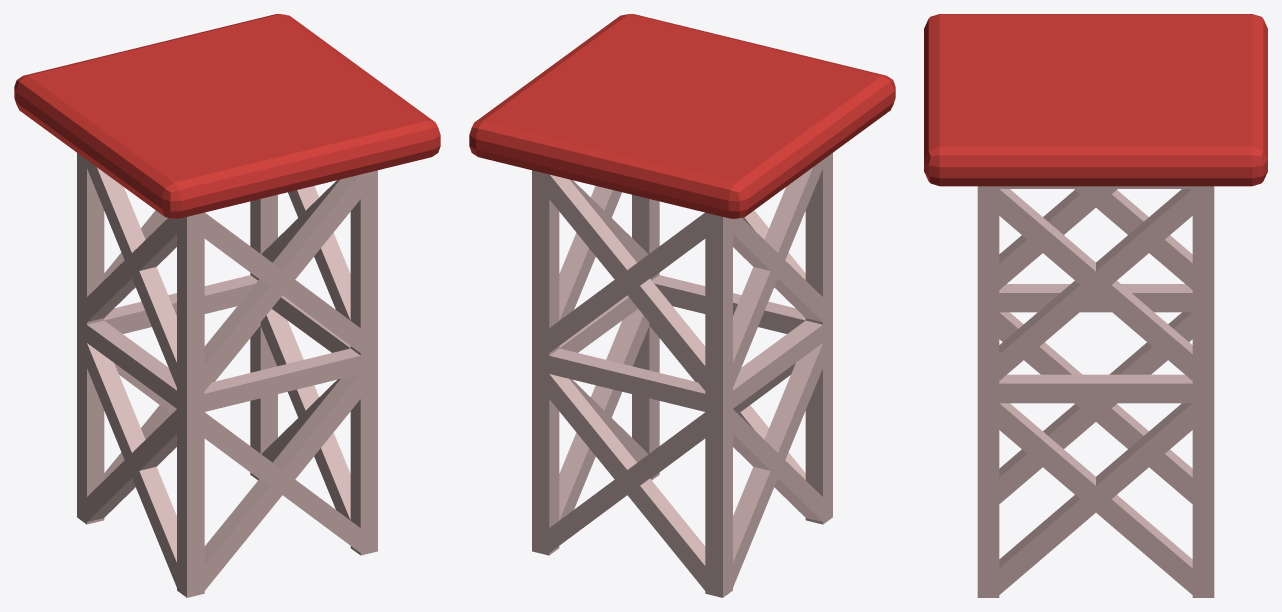
File: HospitalRamboTowerSeperatedParts.fbx
3 renders of one model, left to right at view 1: azimuth 30°, elevation 25°; view 2: azimuth 150°, elevation 25°; view 3: azimuth 270°, elevation 25°, orthographic. The views are drawn at different scales.
Visible parts, largest first — view 1: Cube.080, Cube.052, Cube.070, Cube.055, Cube.072, Cube.039, Cube.066, Cube.025, Cube.064, Cube.028, Cube.056, Cube.051 (+16 smaller); view 2: Cube.080, Cube.053, Cube.071, Cube.059, Cube.074, Cube.050, Cube.067, Cube.063, Cube.065, Cube.069, Cube.029, Cube.026 (+16 smaller); view 3: Cube.080, Cube.056, Cube.060, Cube.075, Cube.061, Cube.073, Cube.064, Cube.065, Cube.055, Cube.059, Cube.028, Cube.029 (+4 smaller).
Boxes of the visible parts, x1,y1,x2,y2 form: Cube.080: [14, 14, 440, 218]; Cube.052: [204, 374, 372, 590]; Cube.070: [204, 174, 372, 390]; Cube.055: [80, 343, 185, 591]; Cube.072: [82, 157, 185, 391]; Cube.039: [177, 409, 204, 597]; Cube.066: [177, 212, 204, 397]; Cube.025: [204, 348, 360, 411]; Cube.064: [350, 170, 377, 355]; Cube.028: [350, 370, 377, 555]; Cube.056: [260, 309, 350, 520]; Cube.051: [204, 412, 372, 554]; Cube.080: [469, 14, 895, 218]; Cube.053: [537, 374, 705, 590]; Cube.071: [537, 174, 705, 390]; Cube.059: [724, 343, 829, 591]; Cube.074: [724, 157, 827, 391]; Cube.050: [705, 409, 732, 597]; Cube.067: [705, 212, 732, 397]; Cube.063: [549, 348, 705, 411]; Cube.065: [532, 170, 559, 355]; Cube.069: [549, 213, 716, 352]; Cube.029: [532, 370, 559, 555]; Cube.026: [534, 412, 705, 554]; Cube.080: [924, 14, 1267, 186]; Cube.056: [981, 403, 1207, 597]; Cube.060: [984, 403, 1210, 597]; Cube.075: [999, 189, 1192, 380]; Cube.061: [977, 374, 1214, 403]; Cube.073: [999, 189, 1192, 380]; Cube.064: [977, 189, 999, 383]; Cube.065: [1192, 189, 1214, 383]; Cube.055: [999, 312, 1192, 503]; Cube.059: [999, 312, 1192, 503]; Cube.028: [977, 403, 999, 597]; Cube.029: [1192, 403, 1214, 597].
Size of the model in its own units: 4.16 by 6.24 by 4.16.
